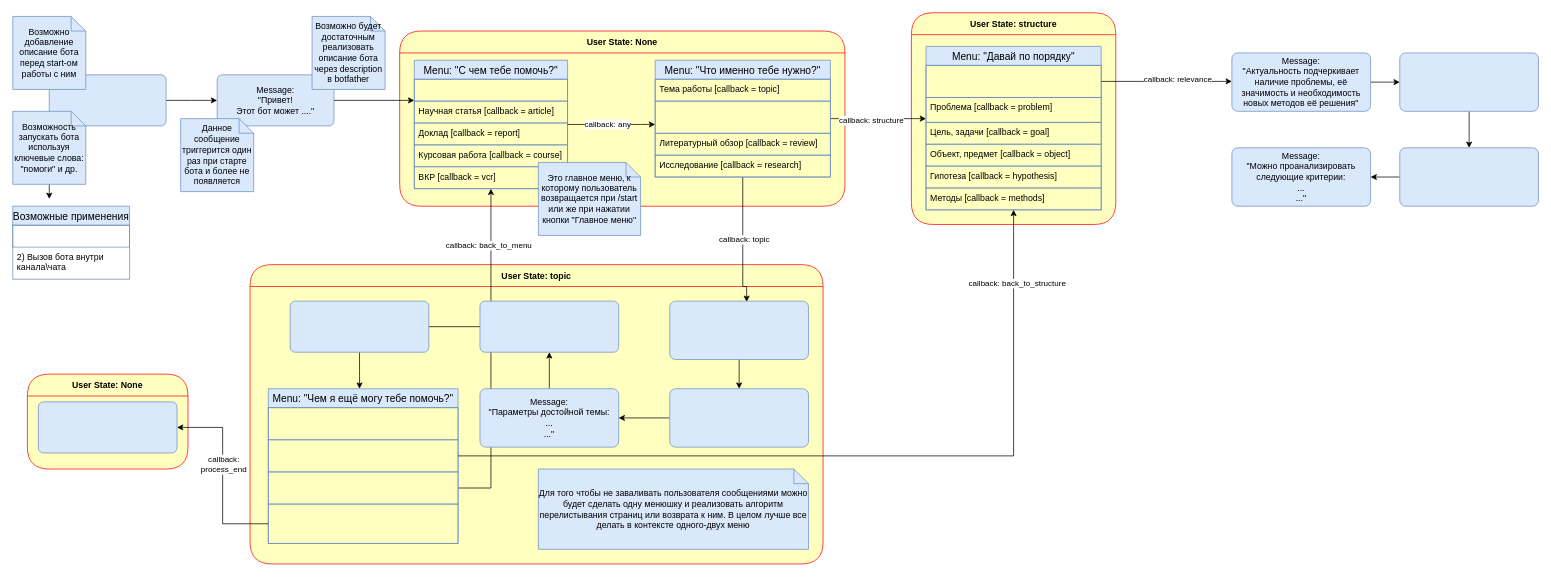
Image size: 1551x577. Some labels were removed from this diagram. Here are the shapes that lost their labels. From the top down, the centre of each, then its label:
point (107, 100): Command: /start
point (491, 89): Реферат [callback = abstract]
point (1013, 81): Актуальность, новизна [callback = relevance]
point (1468, 81): Message: "Обрати внимание на компоненты актуальности ..."
point (742, 116): Структура (цель, задачи) [callback = structure]
point (1468, 176): Photo\Caption: "Что если актуальность не очевидна с первого взгляда?"
point (71, 235): 1) Инлайн режим
point (359, 326): Photo\Caption: "Вот несколько полезных слов: ... ..."
point (549, 326): Message: "Что еще?: ... ..."
point (738, 330): Message: "Обрати внимание! Тему работы очень важно правильно сформулировать!"
point (107, 427): Message: "Всегда рад помочь! Желаю удачи! "
point (363, 423): Работа с источниками [callback = sources]
point (738, 417): Message: "Какие могут быть проблемы? ... ..."
point (363, 455): Вернуться к структуре [callback = back_to_structure]
point (363, 487): Вернуться в меню [callback = back_to_menu]
point (363, 523): Спасибо, на этом все [callback = process_end]
